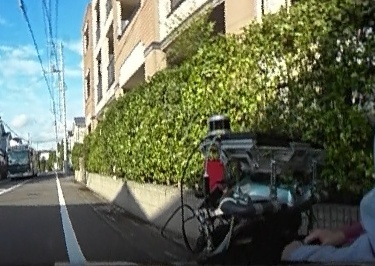person: (291, 0, 375, 260)
